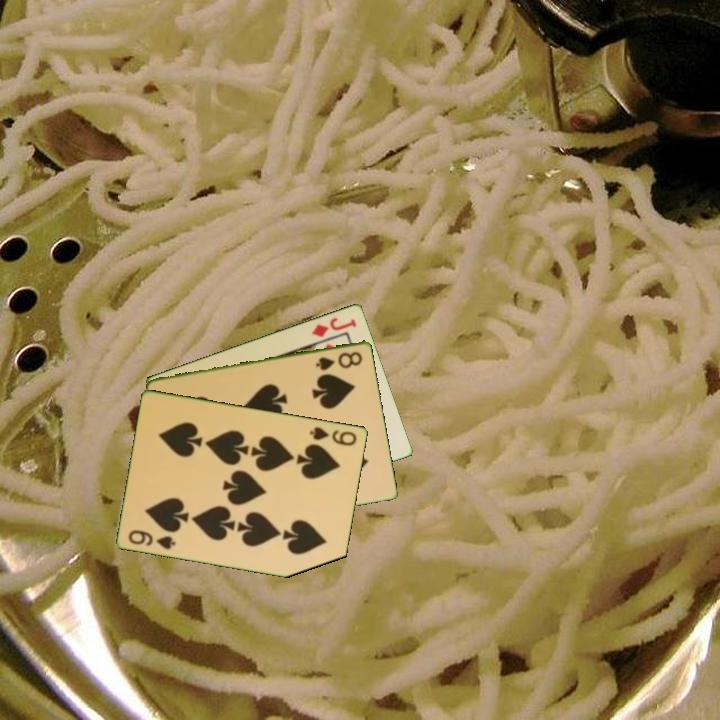8s: (313, 348, 365, 373)
9s: (125, 526, 179, 552), (306, 423, 360, 448)
Jd: (308, 313, 359, 340)
